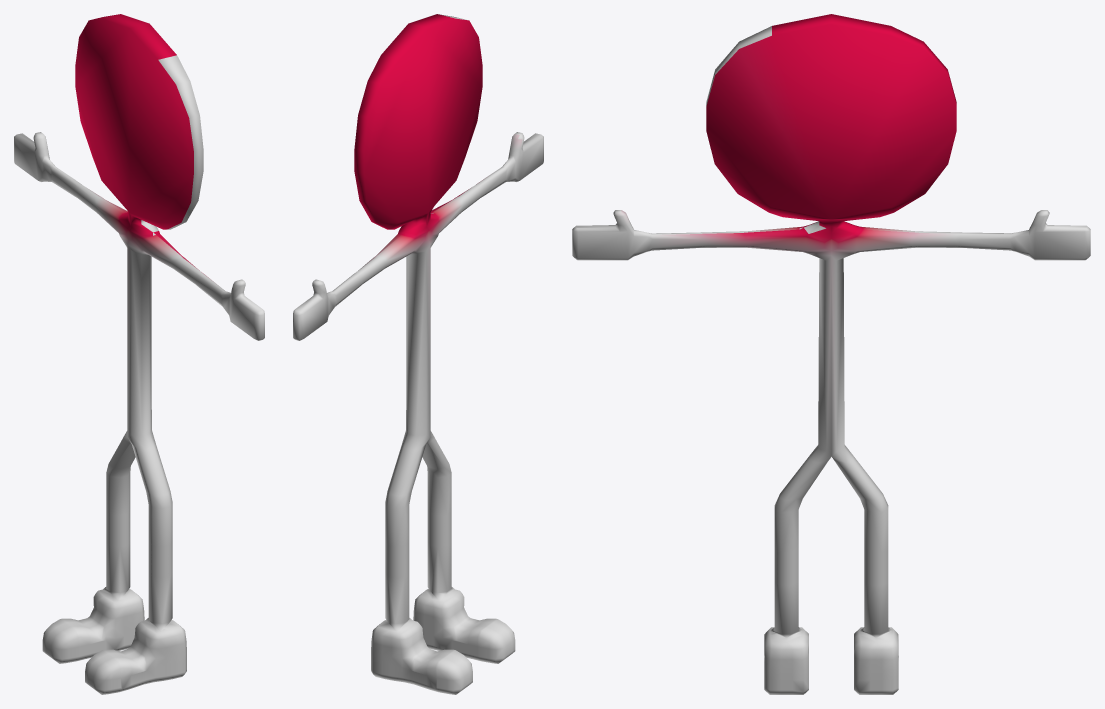
Rendered from lollipoptest2.fbx.
3 views of the same model, side by side, from view 1: azimuth 30°, elevation 25°; view 2: azimuth 150°, elevation 25°; view 3: azimuth 270°, elevation 25° (orthographic). The views are drawn at different scales.
Visible parts, largest first — view 1: Cube; view 2: Cube; view 3: Cube.
Boxes of the visible parts, bbox=[...] form: Cube: bbox=[14, 14, 264, 694]; Cube: bbox=[293, 14, 543, 694]; Cube: bbox=[572, 14, 1090, 694].
Bounding box in the file's own units: 2.4 × 16.48 × 11.58.
